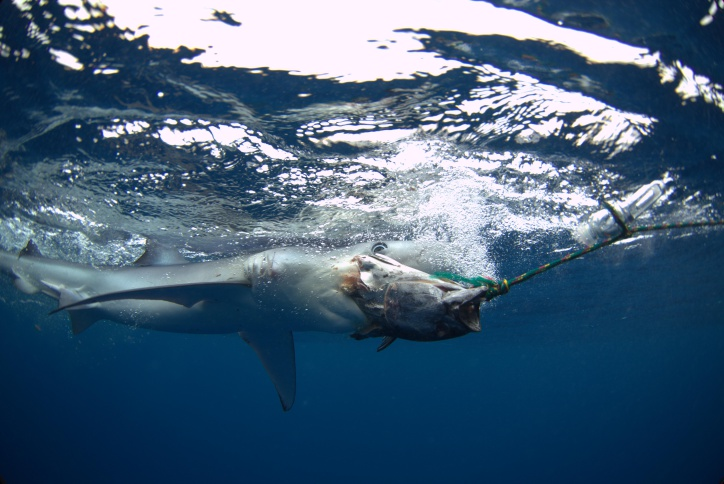Azul: (1, 184, 552, 412)
